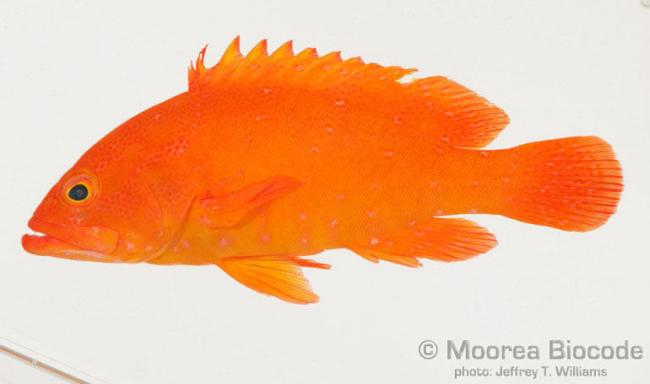fish: (23, 34, 625, 303)
